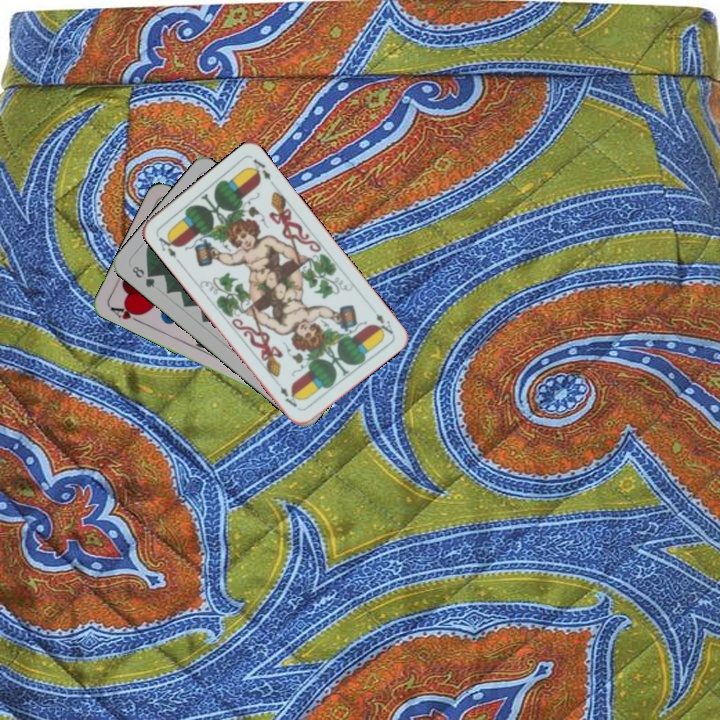EA: (153, 231, 183, 265), (372, 309, 396, 337)
G8: (128, 262, 158, 291)
HA: (106, 301, 145, 326)
